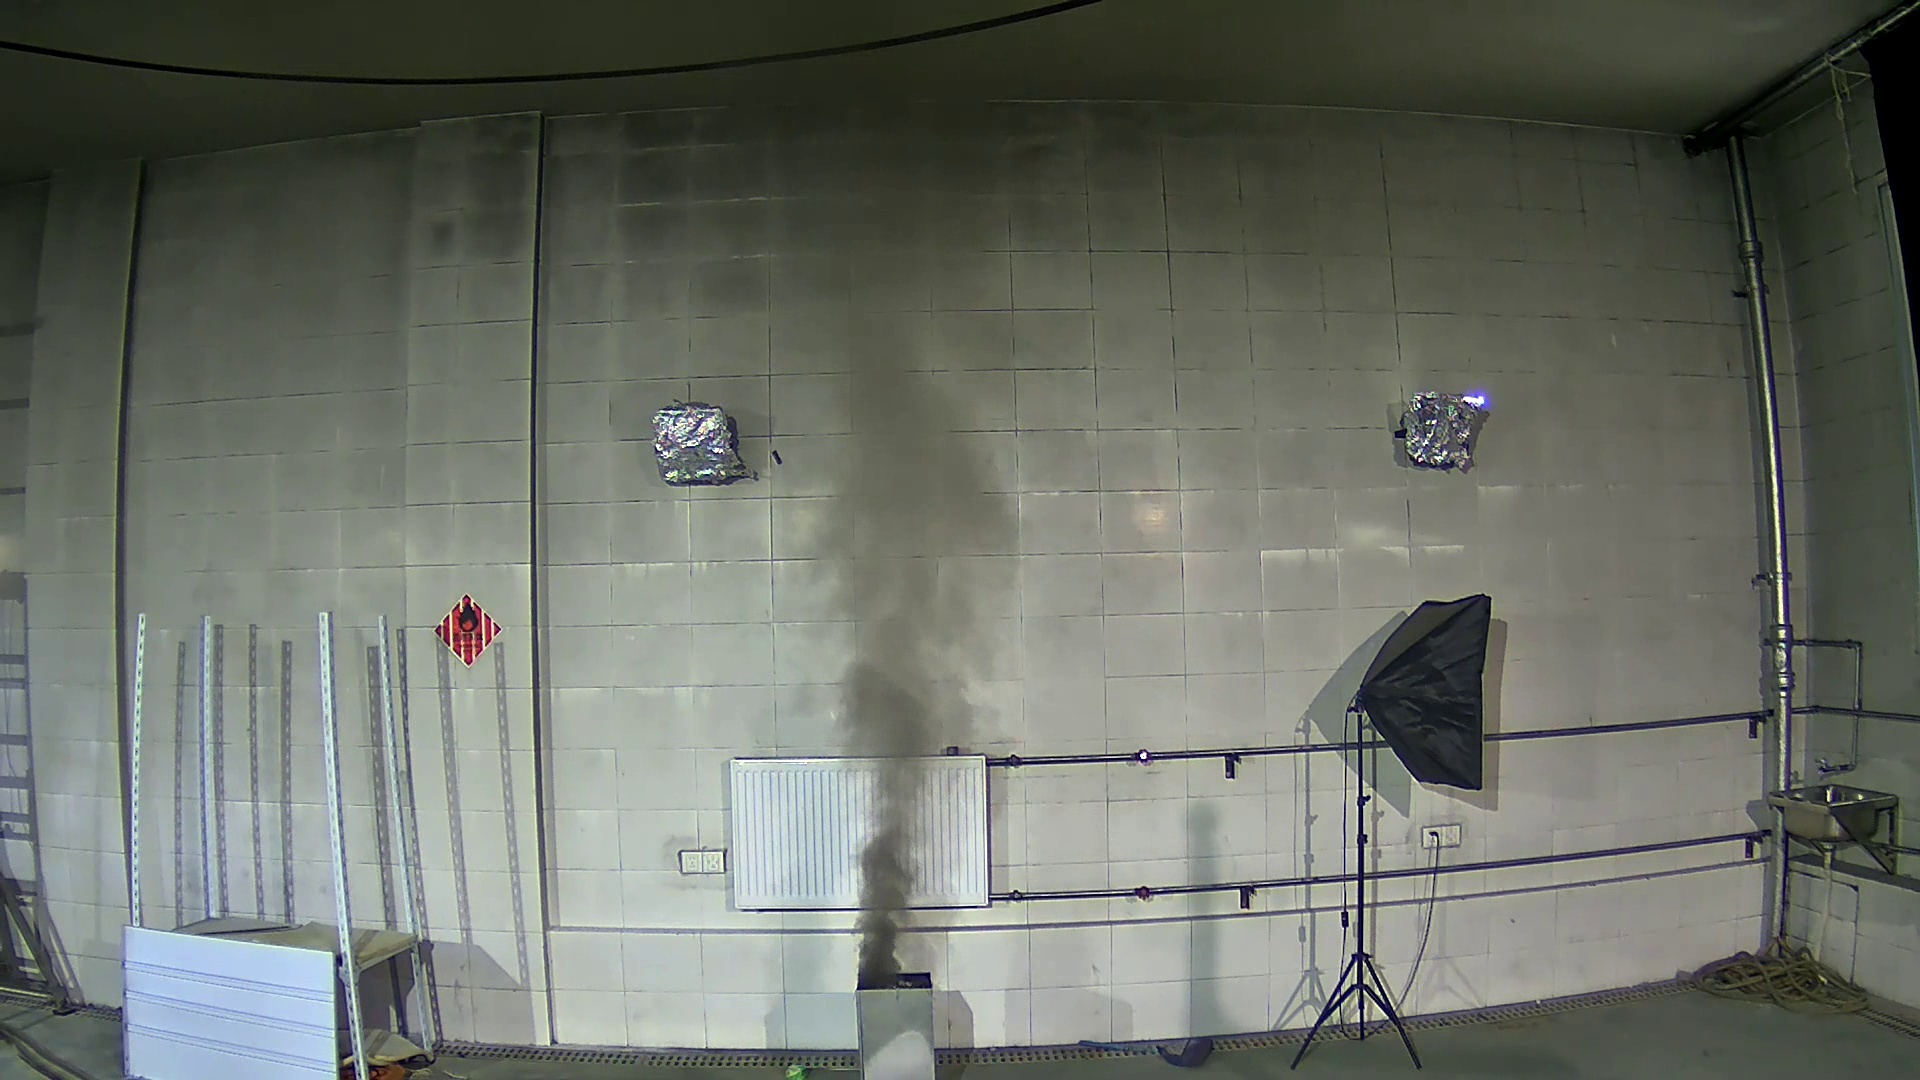smoke: (779, 326, 1040, 984)
